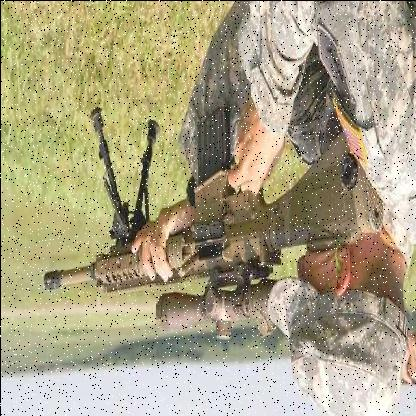rifle: (35, 105, 379, 346)
